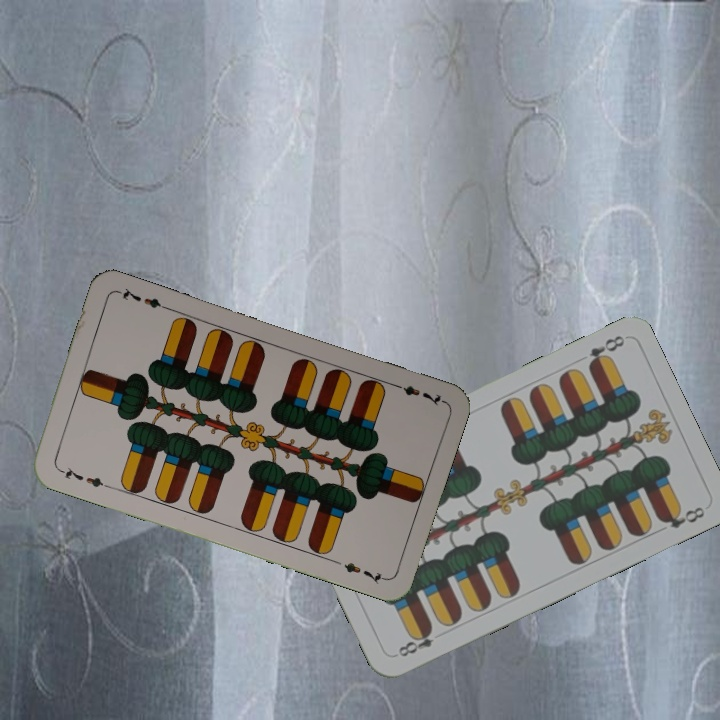E7: (54, 462, 112, 491), (388, 379, 446, 408)
E8: (584, 331, 628, 371), (391, 623, 437, 660)
